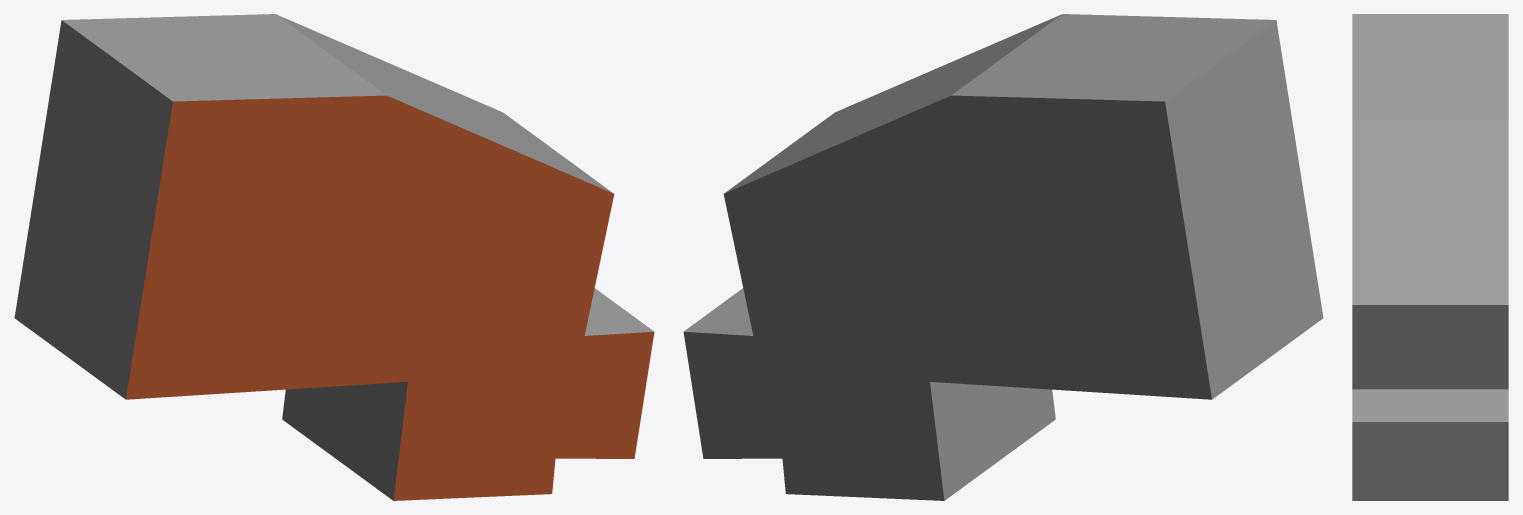
File: construction_0266_assumed_A_Casa_h6m.obj
3 renders of one model, left to right at view 1: azimuth 30°, elevation 25°; view 2: azimuth 150°, elevation 25°; view 3: azimuth 270°, elevation 25°, orthographic. The views are drawn at different scales.
Parts seen in each view (by area): view 1: construction_0266_assumed_A_Casa; view 2: construction_0266_assumed_A_Casa; view 3: construction_0266_assumed_A_Casa.
Part boxes in pixels (box(x1,y1,x2,y2)): construction_0266_assumed_A_Casa: box(14, 14, 654, 500); construction_0266_assumed_A_Casa: box(683, 14, 1323, 500); construction_0266_assumed_A_Casa: box(1352, 14, 1508, 500).
Size of the model in its own units: 16.44 by 14.41 by 6.
